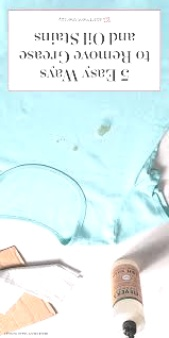oil: (97, 123, 118, 145), (50, 126, 66, 147), (72, 143, 82, 156)
